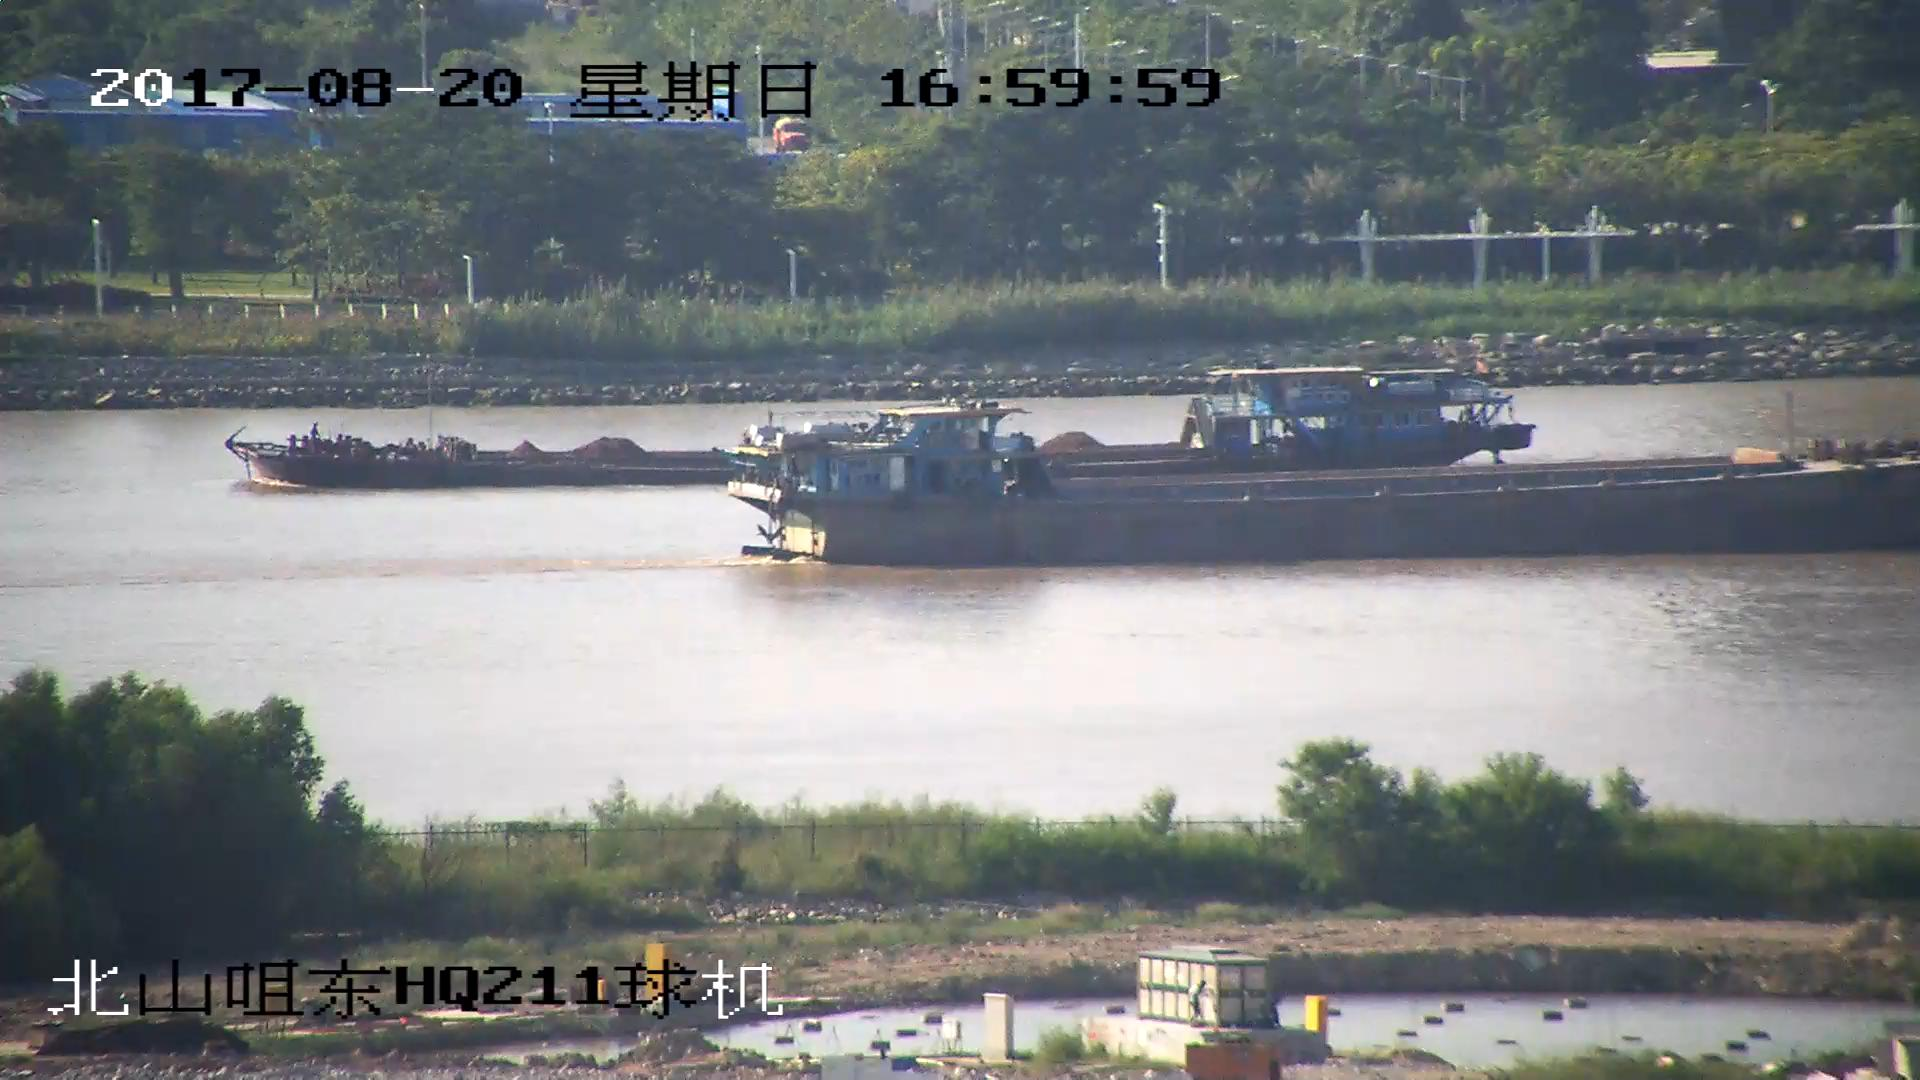bulk cargo carrier: (731, 410, 1920, 567)
ore carrier: (219, 361, 1536, 490)
